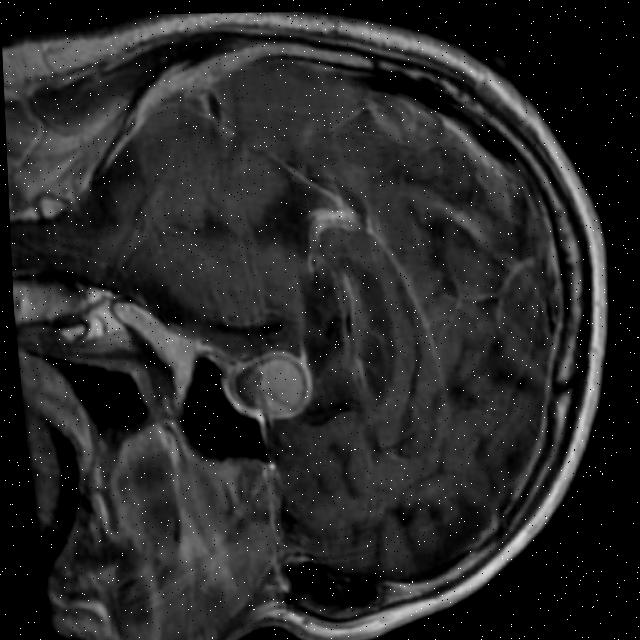Pituitary: (218, 346, 317, 424)
